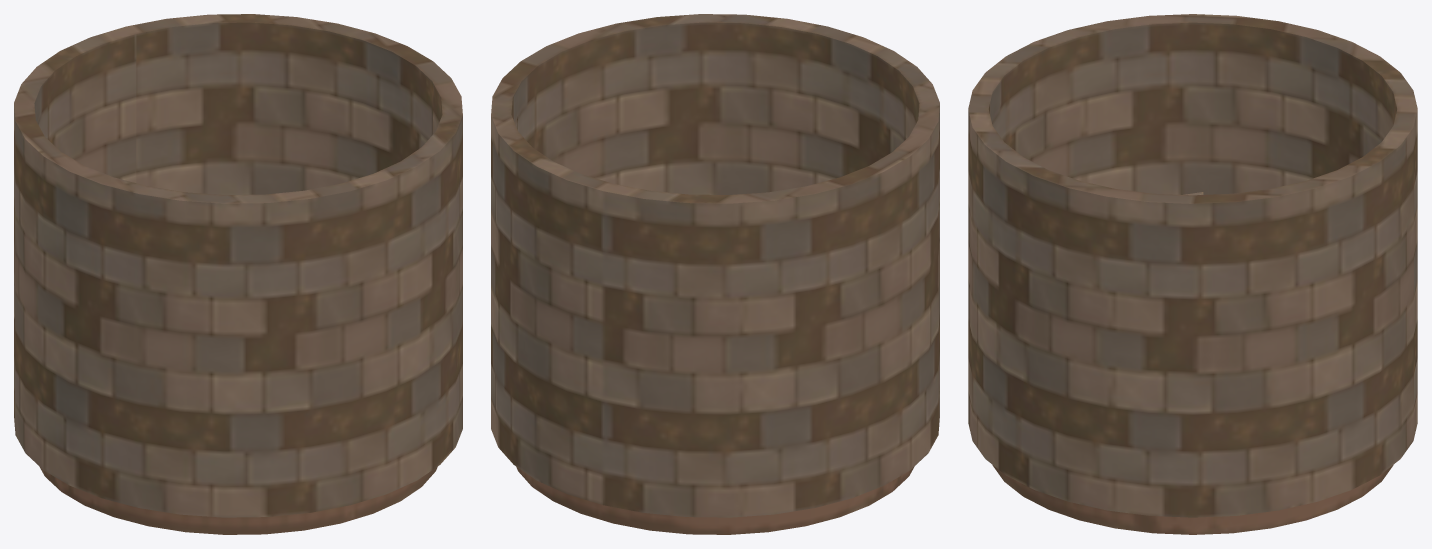
Rendered from SM_ENV.fbx.
The picture shows the model from 3 angles, left to right: view 1: azimuth 30°, elevation 25°; view 2: azimuth 150°, elevation 25°; view 3: azimuth 270°, elevation 25°; orthographic projection.
Visible parts, largest first — view 1: SM_ENV_Wall_LP, SM_ENV_Platform_LP; view 2: SM_ENV_Wall_LP, SM_ENV_Platform_LP; view 3: SM_ENV_Wall_LP, SM_ENV_Platform_LP.
Part boxes in pixels (x1=…): SM_ENV_Wall_LP: x1=14, y1=14, x2=462, y2=517; SM_ENV_Platform_LP: x1=39, y1=466, x2=437, y2=534; SM_ENV_Wall_LP: x1=491, y1=14, x2=939, y2=517; SM_ENV_Platform_LP: x1=516, y1=466, x2=914, y2=534; SM_ENV_Wall_LP: x1=968, y1=14, x2=1417, y2=517; SM_ENV_Platform_LP: x1=992, y1=465, x2=1393, y2=534.
Size of the model in its own units: 110 by 91.7 by 110.
